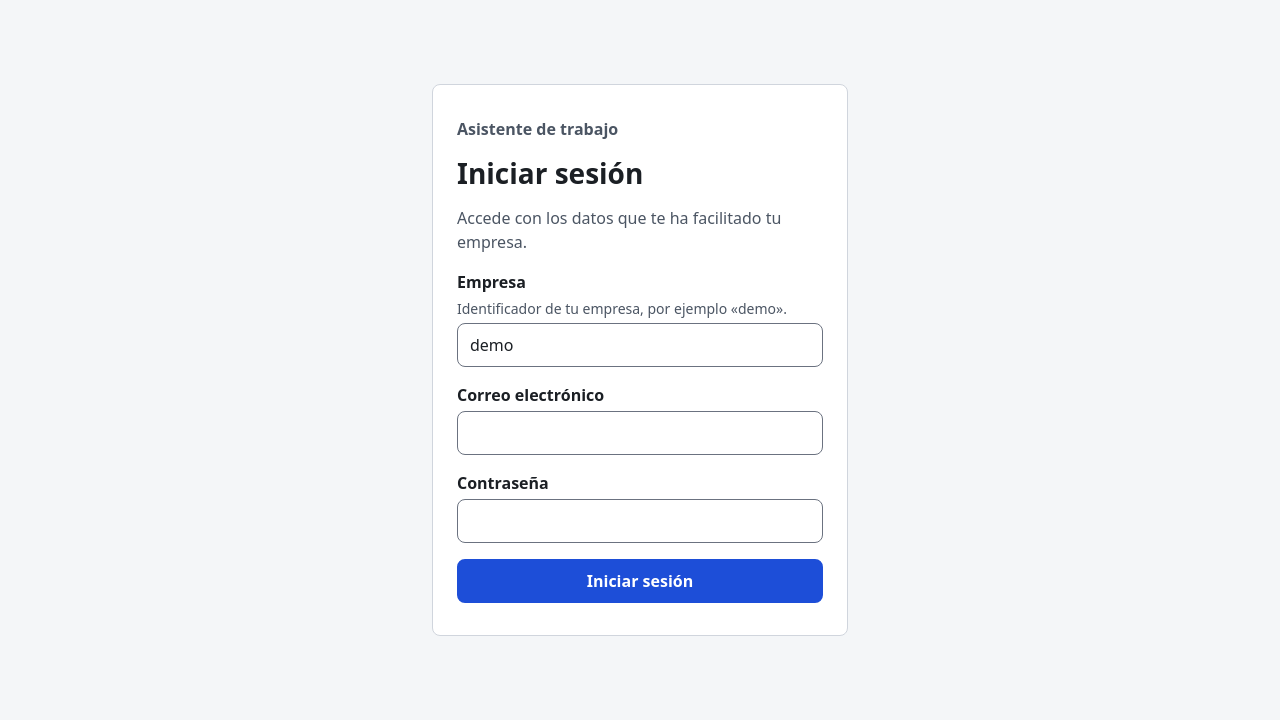
Test: LoginPage › trims and lowercases the email, then opens the chat
Expected: the heading "Iniciar sesión" is shown, top-left (457, 154), bottom-right (643, 192)
Type "  Admin@Demo.TEST " into the field labelled "Correo electrónico". click: (640, 433)
box: top-left (457, 411), bottom-right (823, 455)
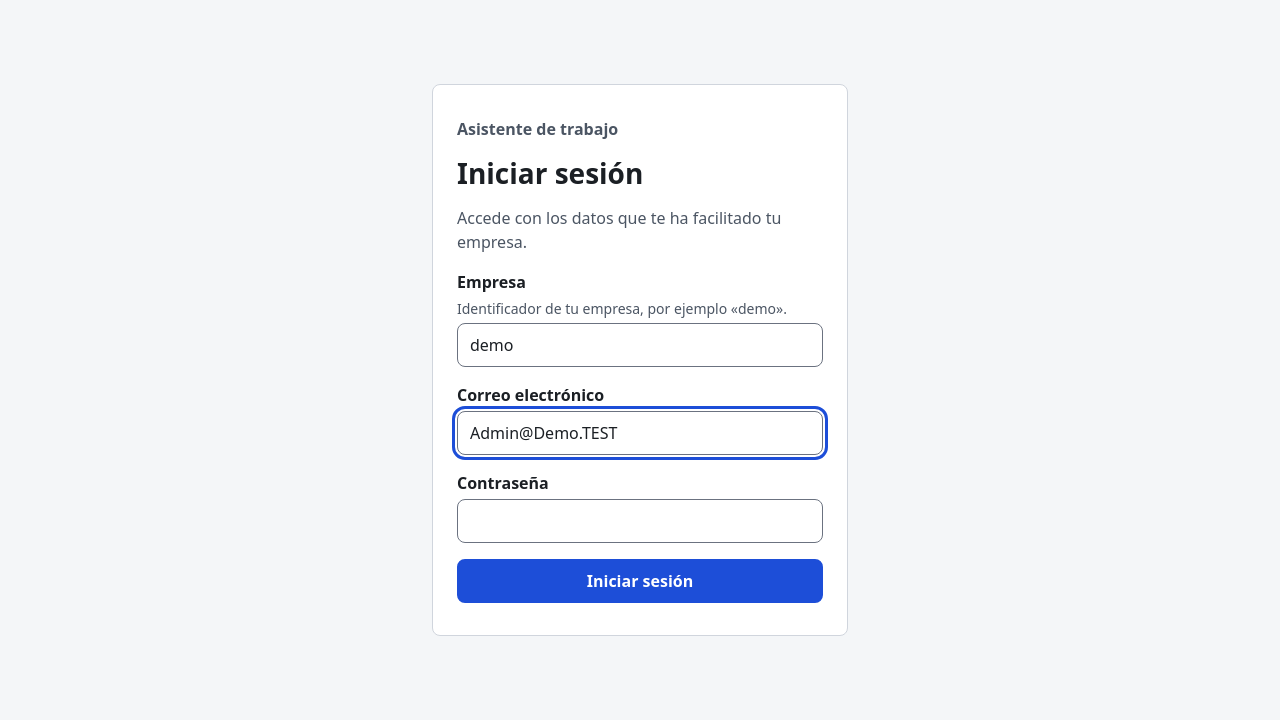
Type " demo-admin-pass" into the password field labelled "Contraseña". click: (640, 521)
box: top-left (457, 499), bottom-right (823, 543)
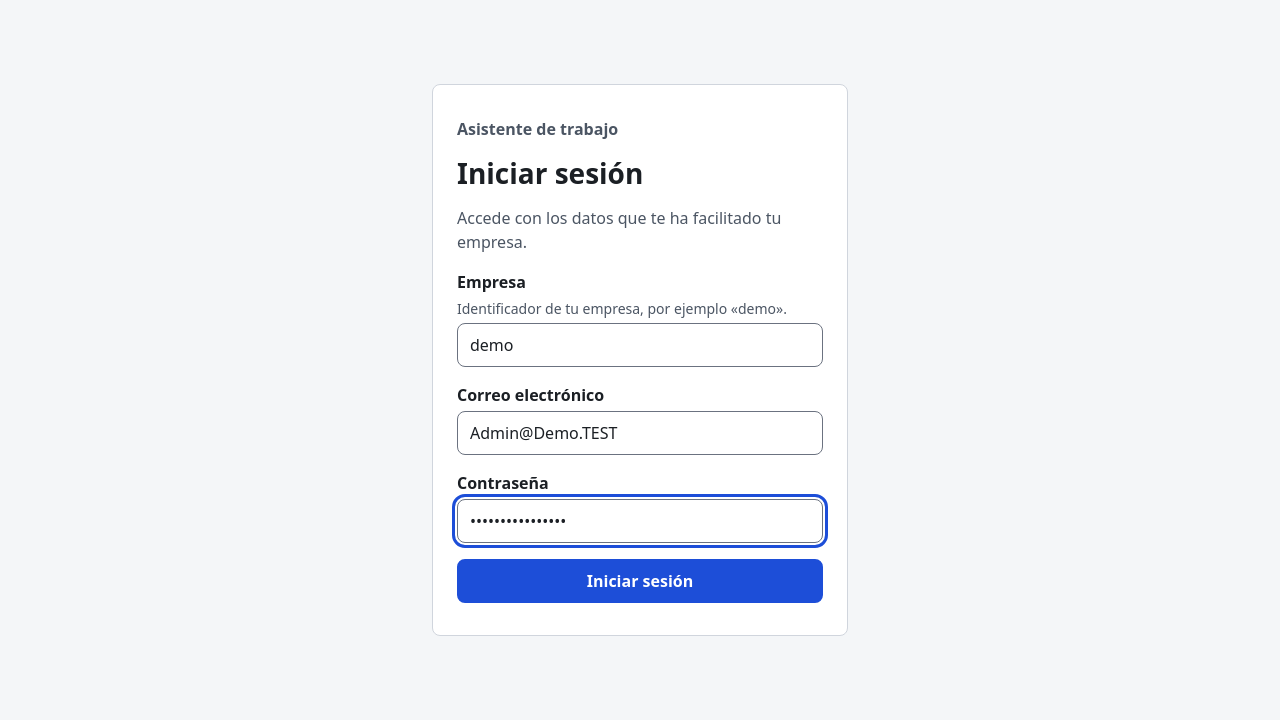
Click the button "Iniciar sesión". click: (640, 581)
box: top-left (457, 559), bottom-right (823, 603)
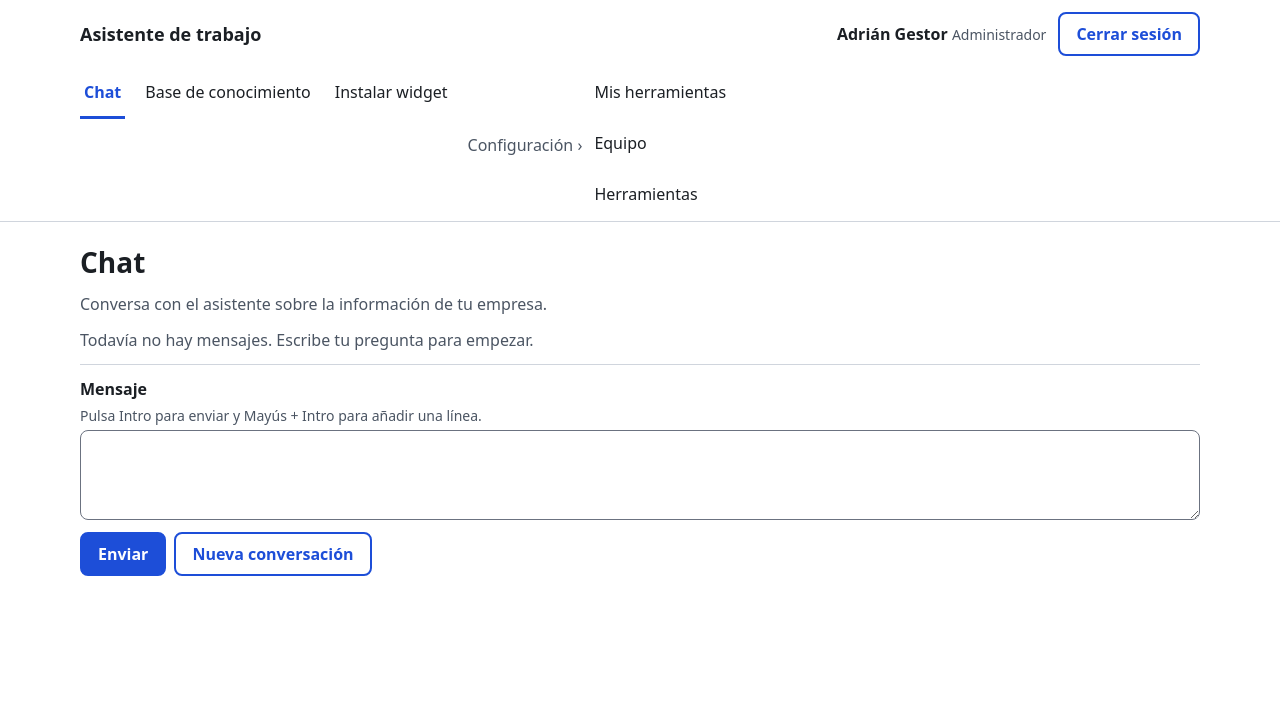
Expected: the heading "Chat" is shown, top-left (80, 243), bottom-right (145, 281)
